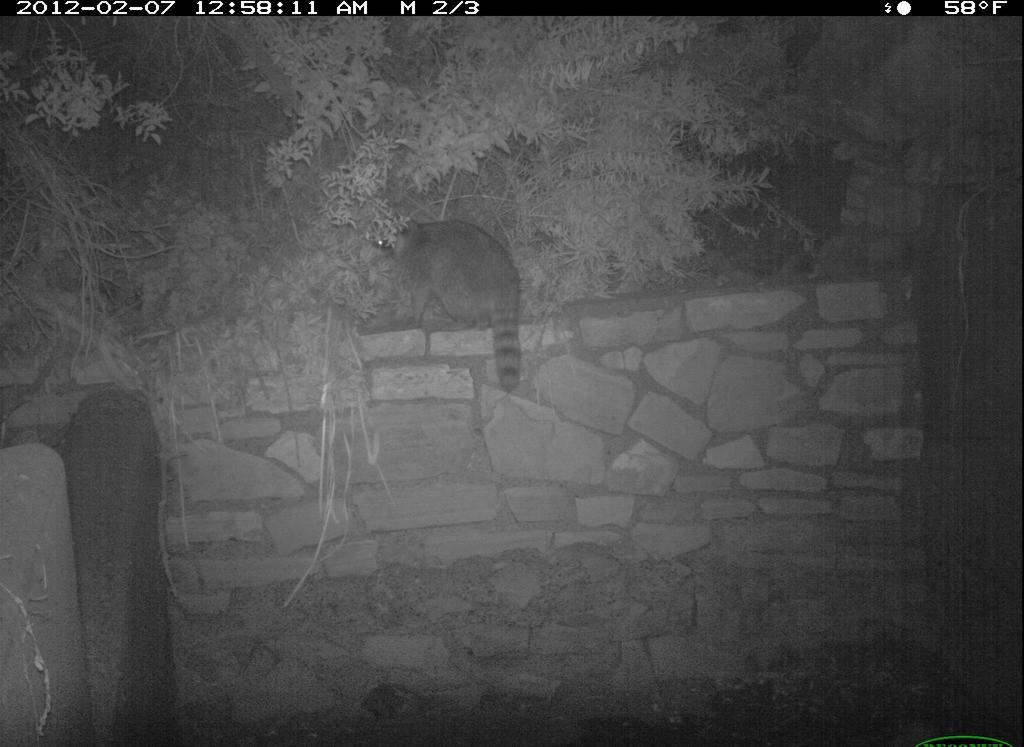raccoon: (341, 198, 553, 406)
